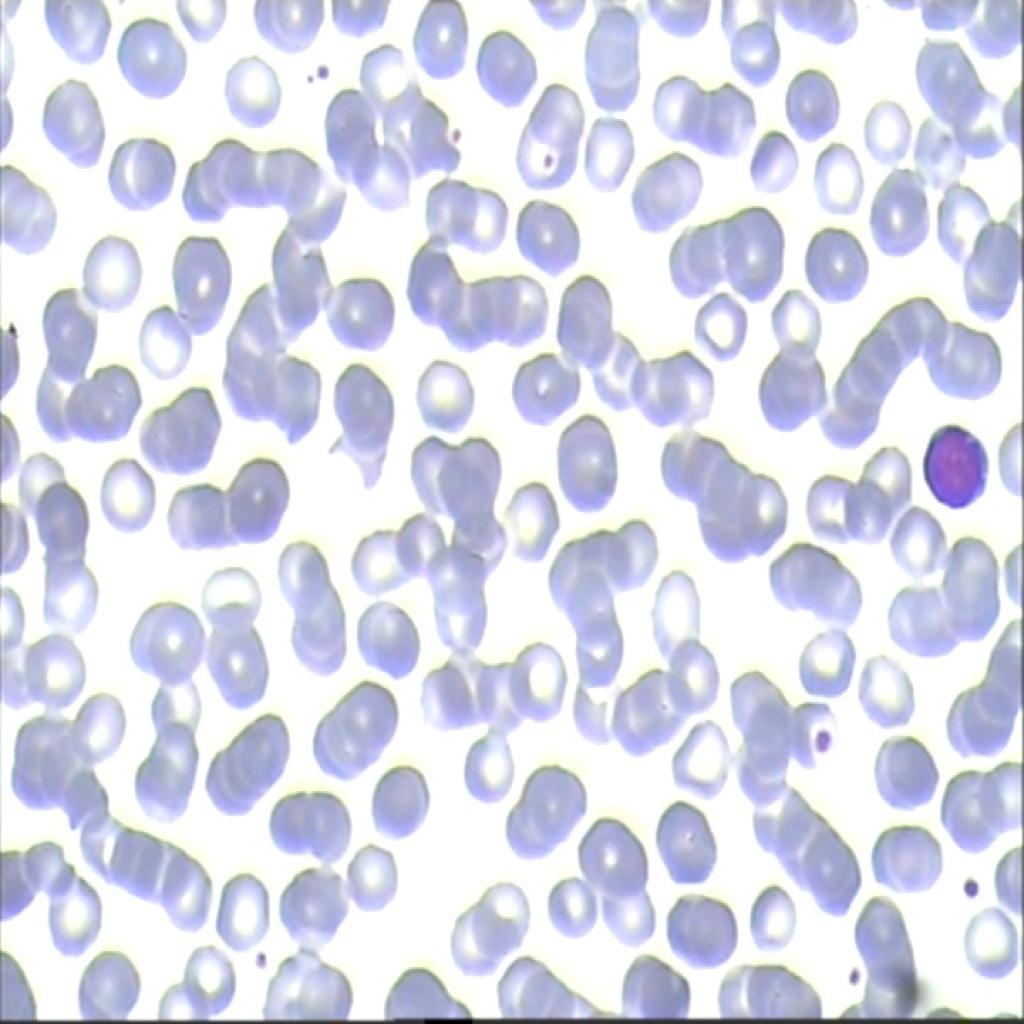Limfosit: (922, 421, 996, 523)
Platelet: (957, 857, 1000, 917), (835, 955, 877, 1008), (240, 935, 282, 980), (435, 110, 472, 158), (804, 720, 836, 770), (306, 52, 334, 86)
